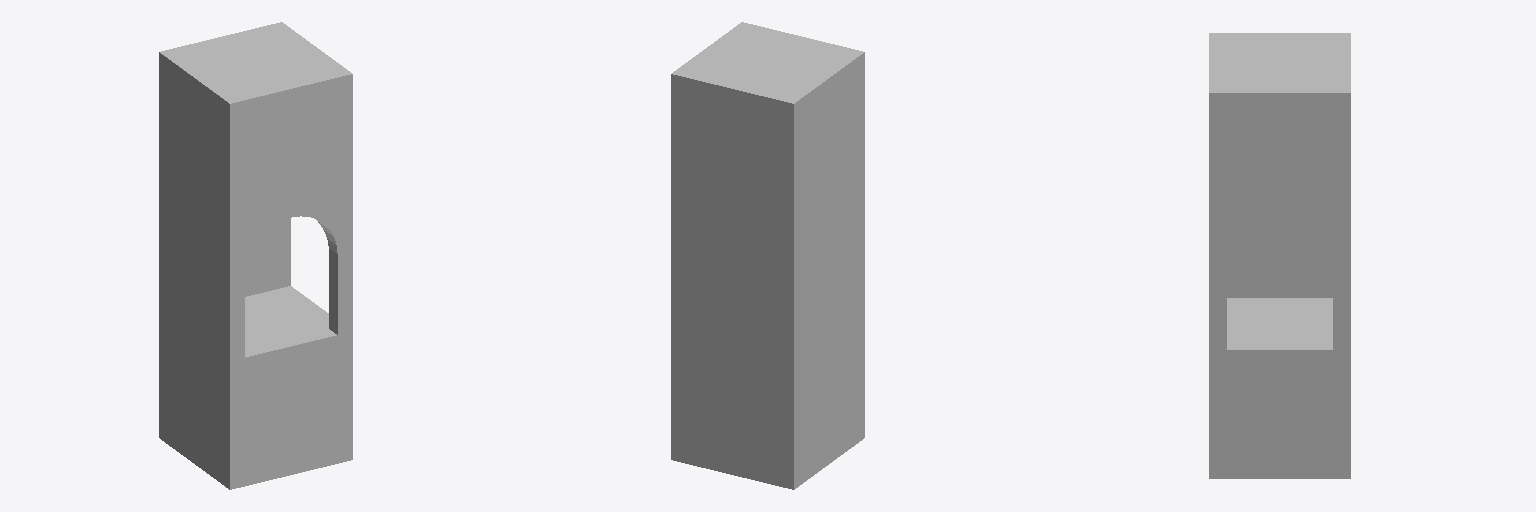
File: internal_hall_stairs_turn.obj
The picture shows the model from 3 angles: view 1: azimuth 30°, elevation 25°; view 2: azimuth 150°, elevation 25°; view 3: azimuth 270°, elevation 25°; orthographic projection.
Visible parts, largest first — view 1: Cube.008, Plane; view 2: Cube.008; view 3: Cube.008, Plane.
Boxes of the visible parts, x1,y1,x2,y2 form: Cube.008: [159, 22, 352, 489]; Plane: [245, 286, 336, 357]; Cube.008: [671, 22, 864, 489]; Cube.008: [1209, 33, 1350, 478]; Plane: [1227, 298, 1332, 349].
Bounding box in the file's own units: 4 × 12 × 4.